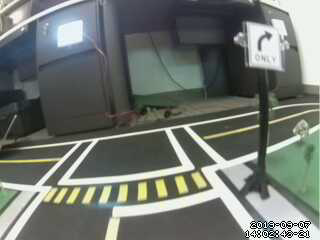Right_only_sign: (246, 26, 282, 73)
